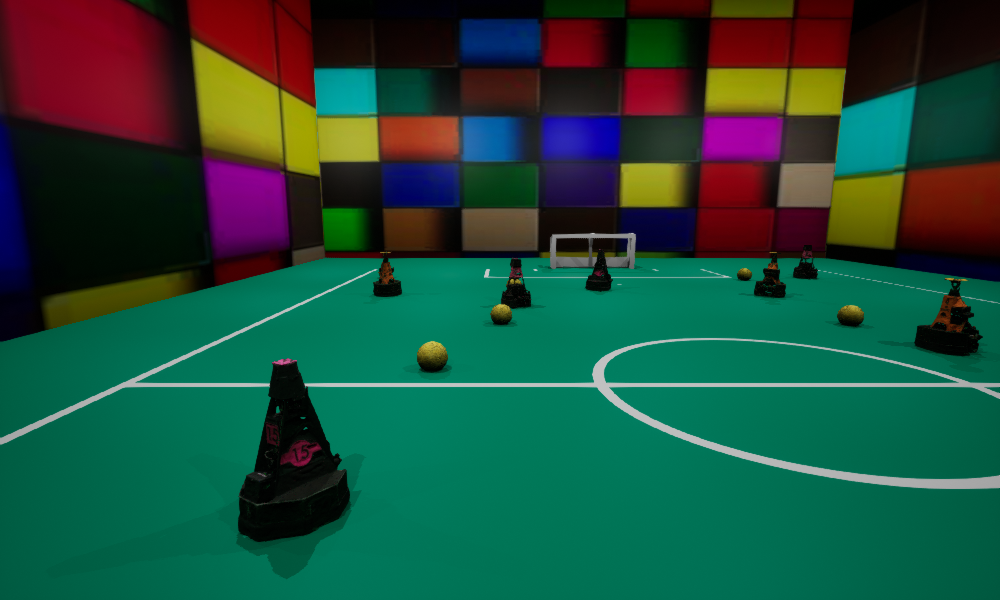b: (417, 341, 447, 370), (837, 305, 863, 325), (490, 304, 511, 324), (737, 268, 751, 279), (506, 279, 521, 286), (378, 272, 379, 275)
o: (914, 278, 982, 355), (754, 252, 785, 297), (373, 252, 401, 296)
p1: (238, 358, 349, 540), (585, 249, 612, 290)
p2: (501, 258, 530, 308), (793, 245, 817, 278)
